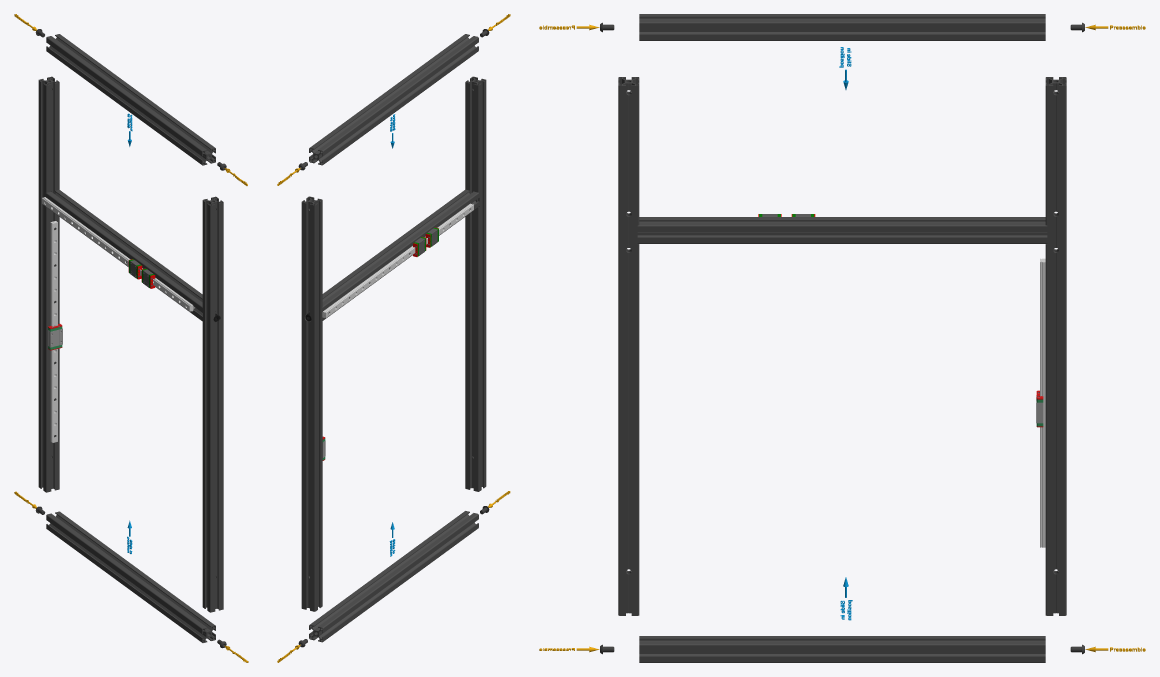
The picture shows the model from 3 angles, left to right: view 1: azimuth 30°, elevation 25°; view 2: azimuth 150°, elevation 25°; view 3: azimuth 270°, elevation 25°; orthographic projection. The views are drawn at different scales.
Visible parts, largest first — view 1: 01_01__XP__Alu_3030_Pillar___V2.0 v24, 01_01__XP__Alu_3030_Pillar___V2.0 v025, 01_03__XP__Alu_3030_Beam_2___V1.0 v7, 01_03__XP__Alu_3030_Beam_2___V1.0 v008, 01_02__XP__Alu_3030_Beam_1___V1.0 v14, MGNR12R450HM_FILE_2 v1, MGNR12R550HM_FILE_2 v3; view 2: 01_01__XP__Alu_3030_Pillar___V2.0 v025, 01_01__XP__Alu_3030_Pillar___V2.0 v24, 01_03__XP__Alu_3030_Beam_2___V1.0 v7, 01_03__XP__Alu_3030_Beam_2___V1.0 v008, 01_02__XP__Alu_3030_Beam_1___V1.0 v14, MGNR12R550HM_FILE_2 v3; view 3: 01_01__XP__Alu_3030_Pillar___V2.0 v24, 01_01__XP__Alu_3030_Pillar___V2.0 v025, 01_02__XP__Alu_3030_Beam_1___V1.0 v14, 01_03__XP__Alu_3030_Beam_2___V1.0 v7, 01_03__XP__Alu_3030_Beam_2___V1.0 v008, MGNR12R450HM_FILE_2 v1.
Boxes of the visible parts, left/top/right/bottom form: 01_01__XP__Alu_3030_Pillar___V2.0 v24: left=202, top=196, right=223, bottom=612; 01_01__XP__Alu_3030_Pillar___V2.0 v025: left=38, top=76, right=59, bottom=492; 01_03__XP__Alu_3030_Beam_2___V1.0 v7: left=46, top=34, right=215, bottom=165; 01_03__XP__Alu_3030_Beam_2___V1.0 v008: left=46, top=511, right=215, bottom=642; 01_02__XP__Alu_3030_Beam_1___V1.0 v14: left=45, top=190, right=202, bottom=321; MGNR12R450HM_FILE_2 v1: left=50, top=221, right=57, bottom=442; MGNR12R550HM_FILE_2 v3: left=42, top=197, right=193, bottom=311; 01_01__XP__Alu_3030_Pillar___V2.0 v025: left=301, top=196, right=322, bottom=611; 01_01__XP__Alu_3030_Pillar___V2.0 v24: left=465, top=76, right=486, bottom=491; 01_03__XP__Alu_3030_Beam_2___V1.0 v7: left=309, top=34, right=478, bottom=165; 01_03__XP__Alu_3030_Beam_2___V1.0 v008: left=309, top=511, right=478, bottom=642; 01_02__XP__Alu_3030_Beam_1___V1.0 v14: left=322, top=189, right=479, bottom=320; MGNR12R550HM_FILE_2 v3: left=322, top=203, right=473, bottom=318; 01_01__XP__Alu_3030_Pillar___V2.0 v24: left=618, top=77, right=639, bottom=615; 01_01__XP__Alu_3030_Pillar___V2.0 v025: left=1045, top=77, right=1066, bottom=615; 01_02__XP__Alu_3030_Beam_1___V1.0 v14: left=637, top=217, right=1047, bottom=243; 01_03__XP__Alu_3030_Beam_2___V1.0 v7: left=639, top=14, right=1045, bottom=40; 01_03__XP__Alu_3030_Beam_2___V1.0 v008: left=639, top=636, right=1045, bottom=662; MGNR12R450HM_FILE_2 v1: left=1040, top=258, right=1045, bottom=547.
Size of the model in its own units: 0.043 by 1.01 by 0.8656.
